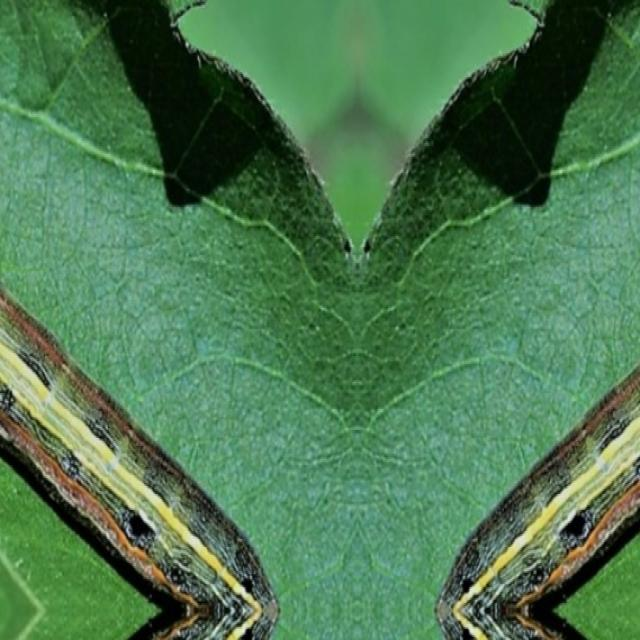armyworm: (0, 273, 275, 619), (445, 343, 640, 640)
